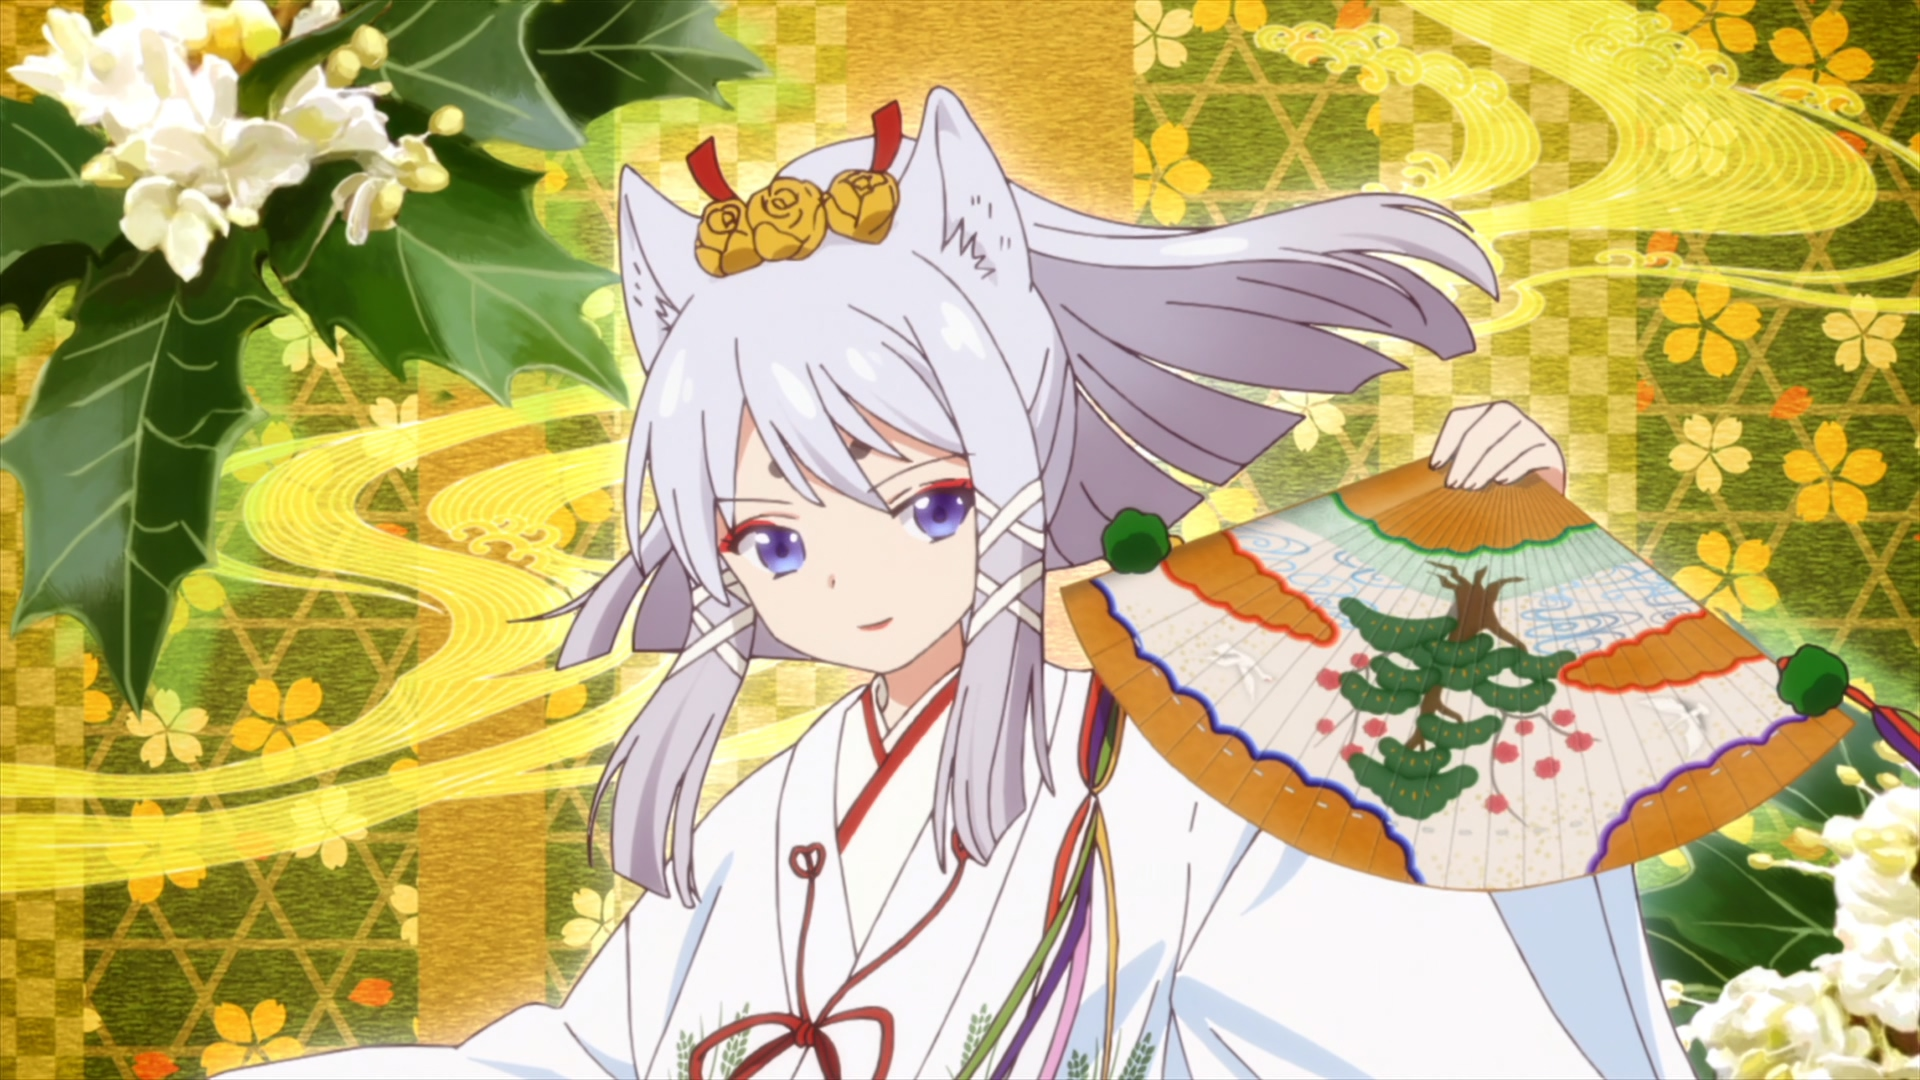柊: (216, 87, 1698, 1080)
